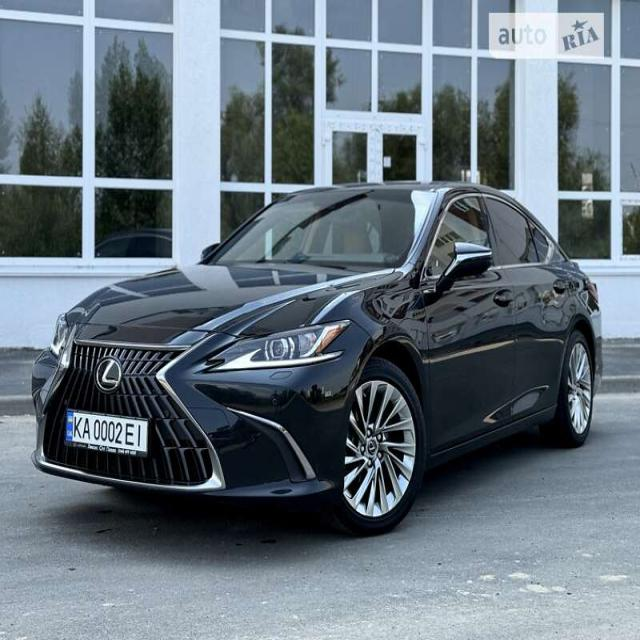plate: (60, 404, 153, 468)
